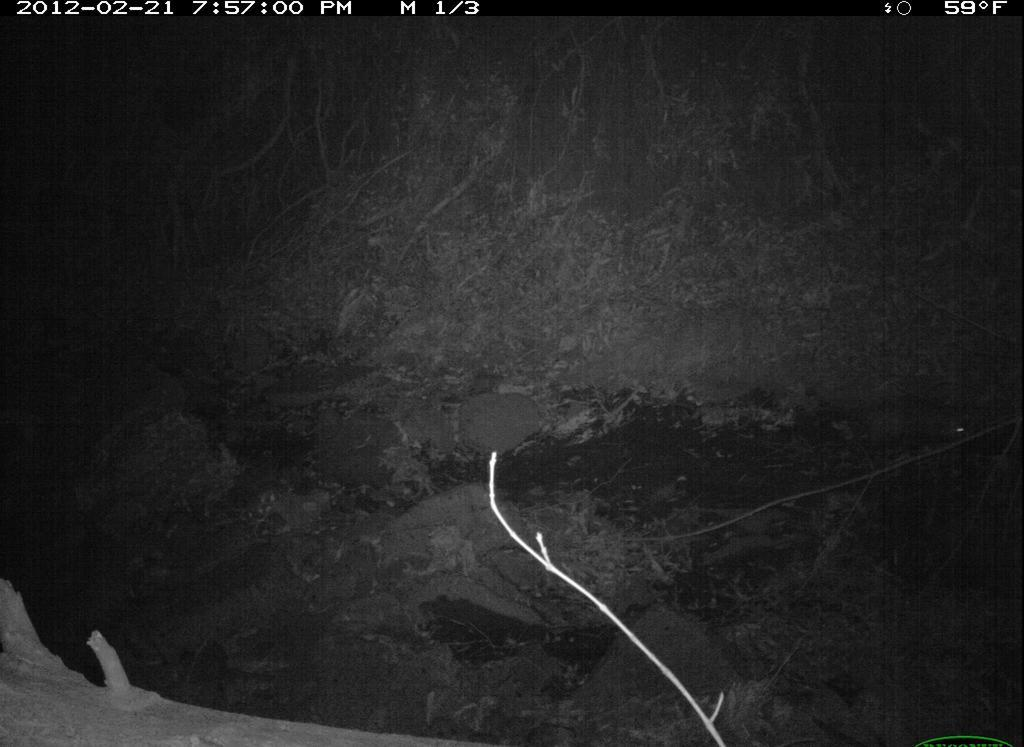opossum: (835, 396, 979, 457)
